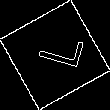L_W: (26, 33, 84, 77)
